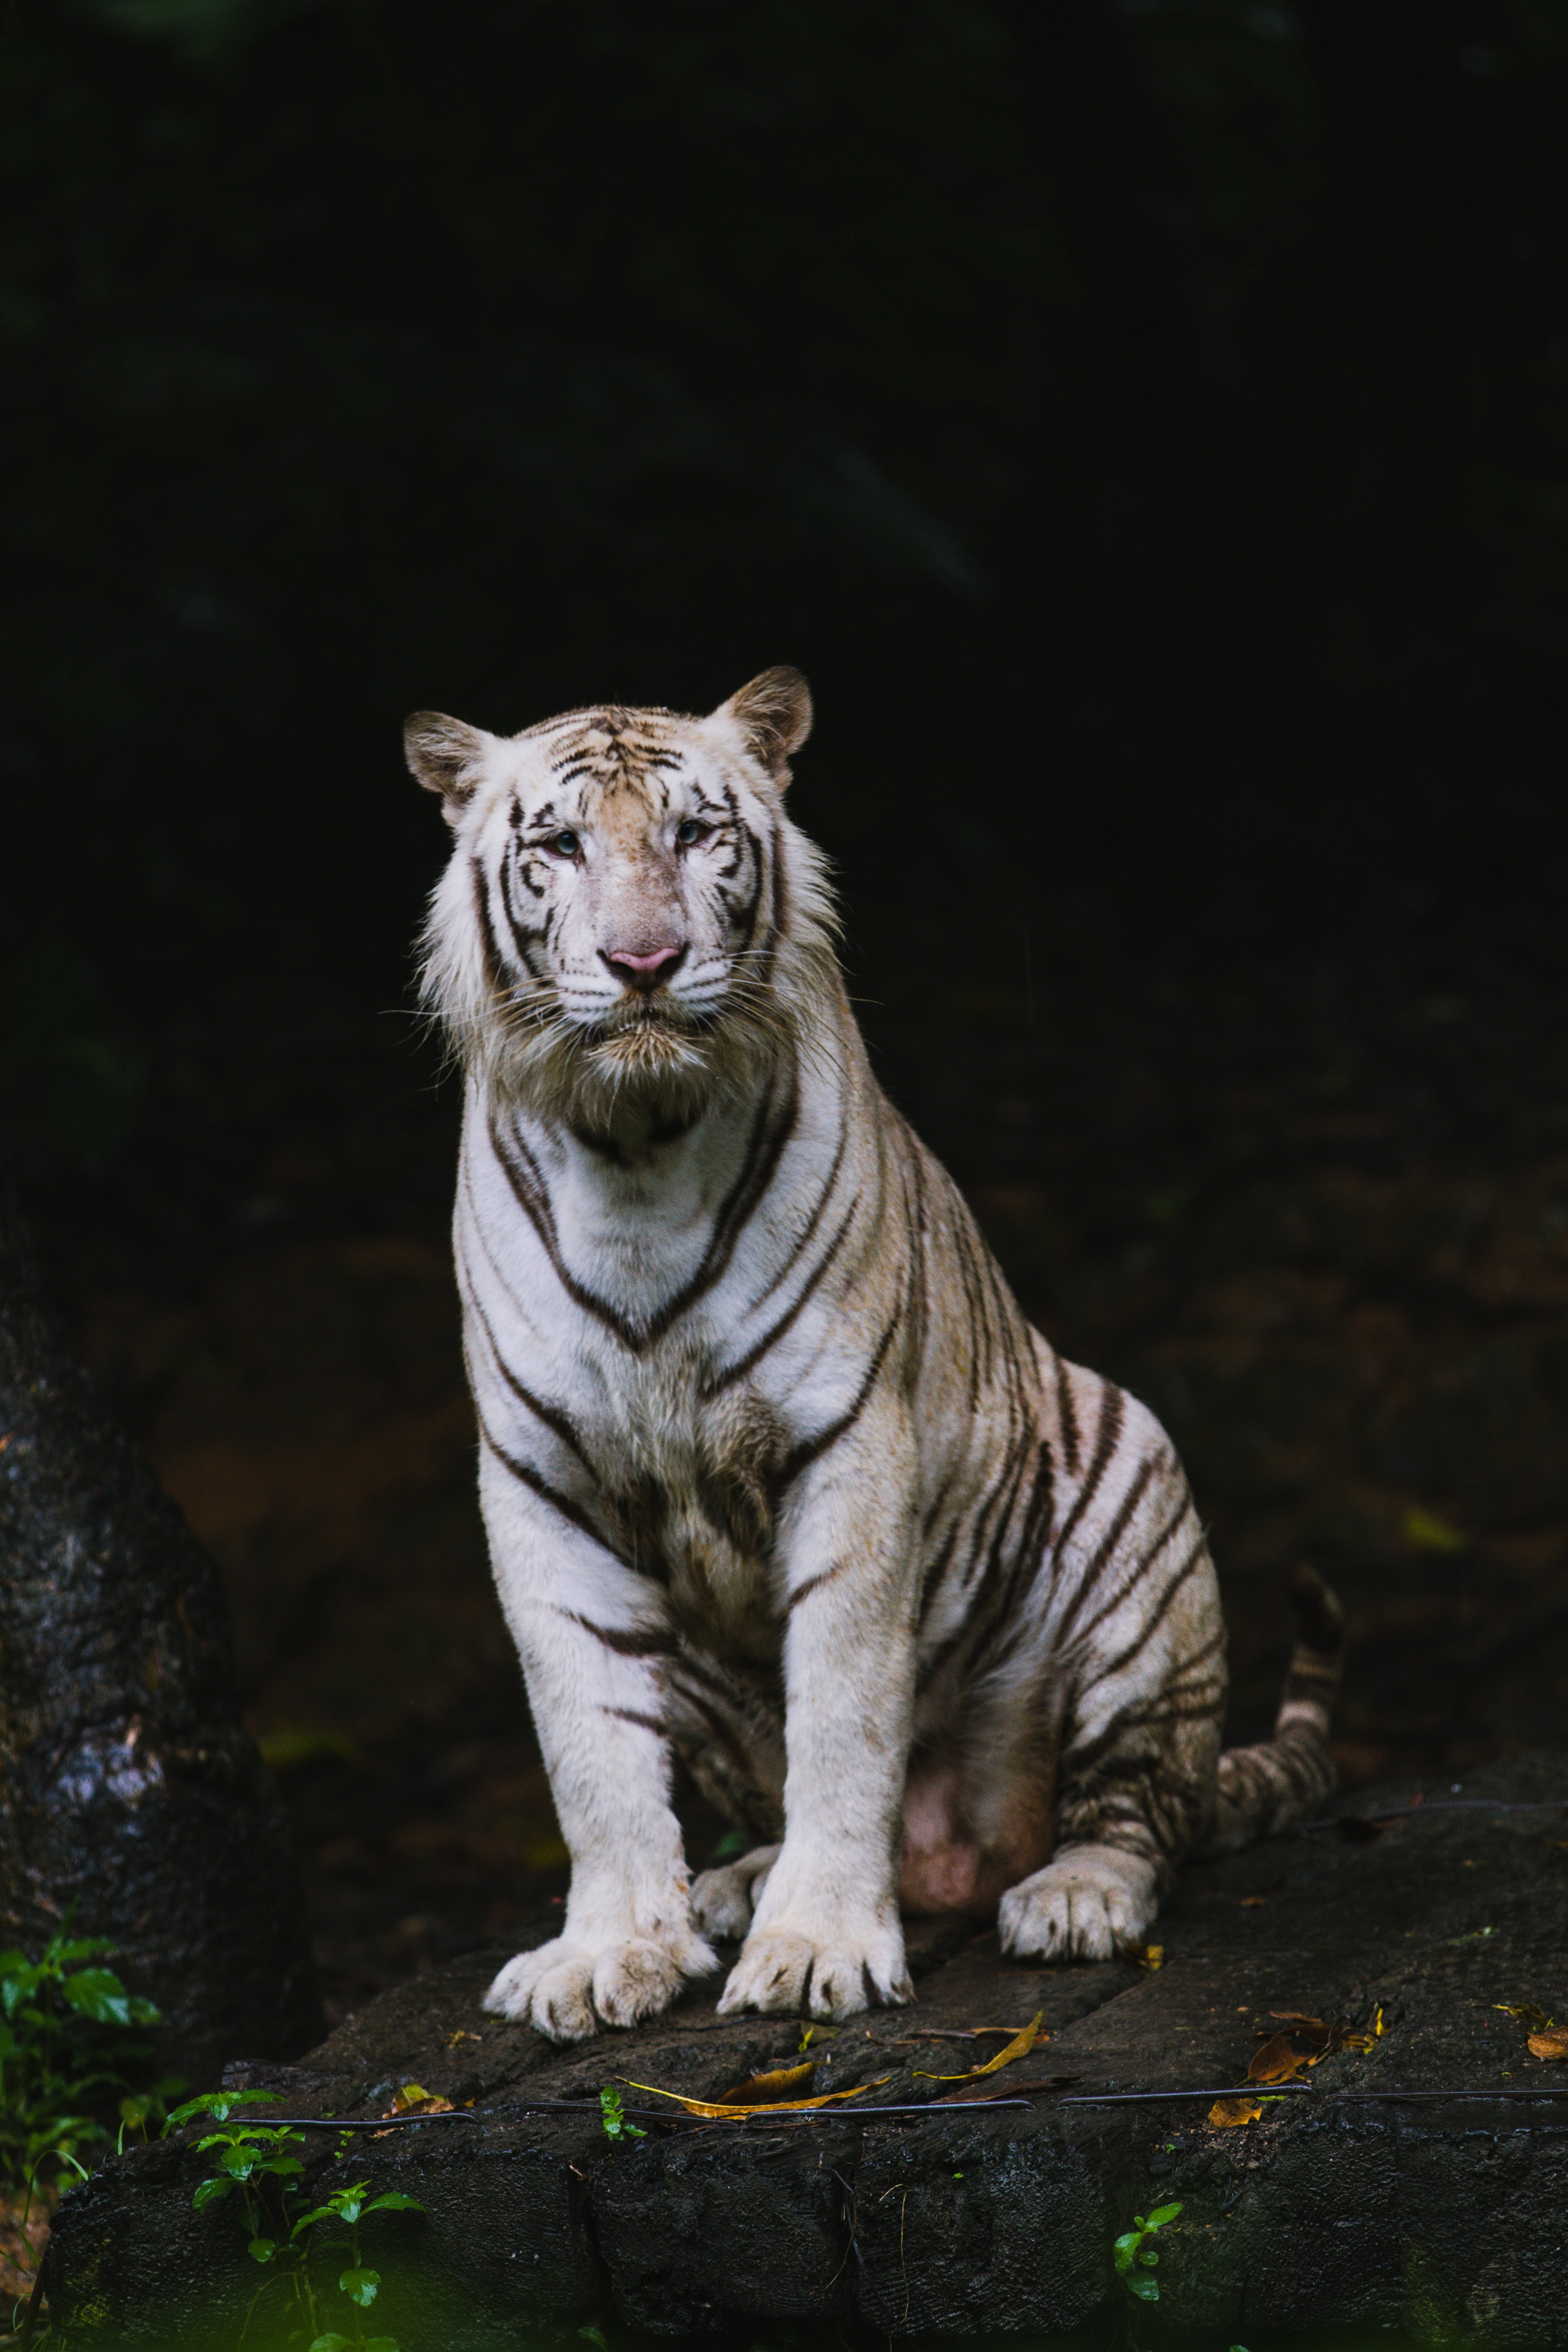tiger: (334, 640, 1339, 2093)
